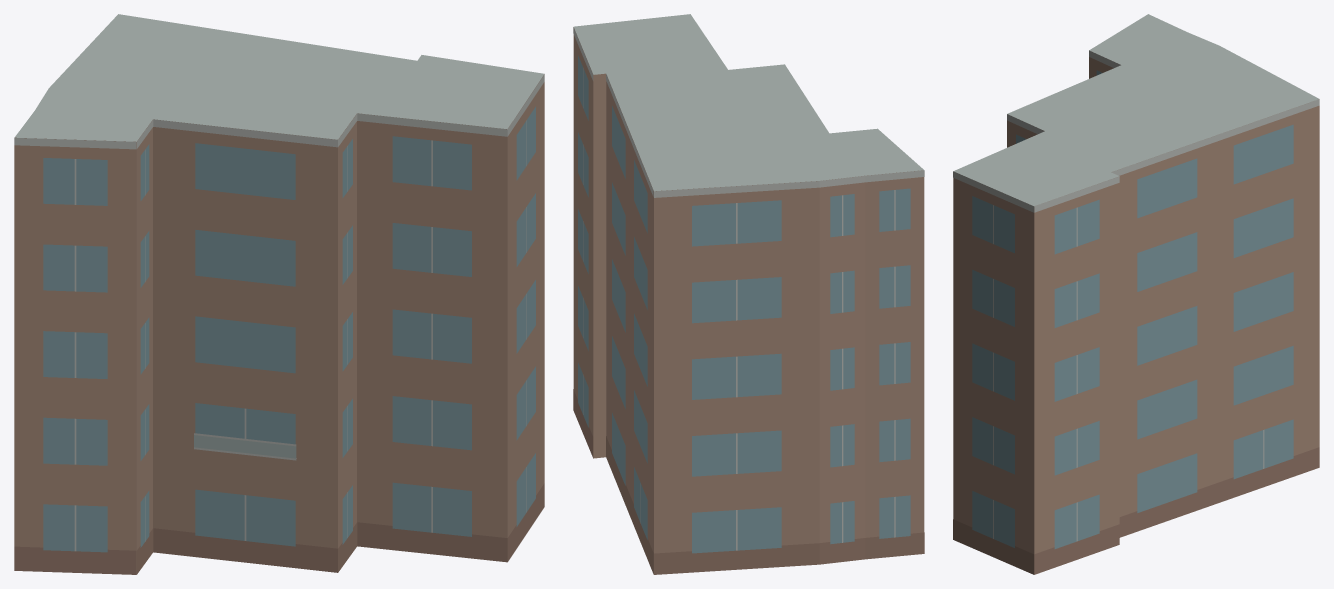
File: survey-upis-32730535.glb
The picture shows the model from 3 angles, left to right: view 1: azimuth 30°, elevation 25°; view 2: azimuth 150°, elevation 25°; view 3: azimuth 270°, elevation 25°; orthographic projection. The views are drawn at different scales.
Parts seen in each view (by area): view 1: survey-upis-32730535.tmp; view 2: survey-upis-32730535.tmp; view 3: survey-upis-32730535.tmp.
Boxes of the visible parts, x1,y1,x2,y2 form: survey-upis-32730535.tmp: (14,14,544,574); survey-upis-32730535.tmp: (573,14,924,574); survey-upis-32730535.tmp: (953,14,1319,574).
Size of the model in its own units: 15.57 by 13.9 by 12.53.
